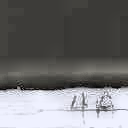crackTip: (5, 100, 128, 120)
